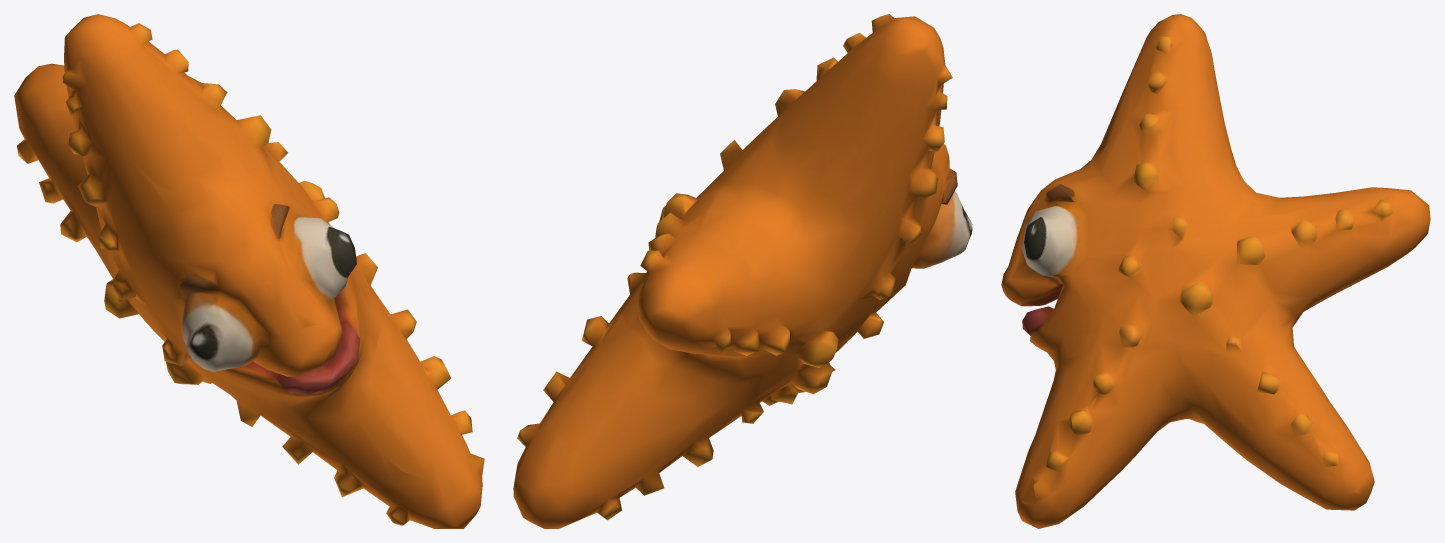
File: fish-starfish.glb
3 views of the same model, side by side, from view 1: azimuth 30°, elevation 25°; view 2: azimuth 150°, elevation 25°; view 3: azimuth 270°, elevation 25° (orthographic). The views are drawn at different scales.
Parts seen in each view (by area): view 1: tripo_node_2cf13909-51e1-4ab7-abfc-37a132337839; view 2: tripo_node_2cf13909-51e1-4ab7-abfc-37a132337839; view 3: tripo_node_2cf13909-51e1-4ab7-abfc-37a132337839.
Boxes of the visible parts, left/top/right/bottom form: tripo_node_2cf13909-51e1-4ab7-abfc-37a132337839: left=14, top=14, right=484, bottom=528; tripo_node_2cf13909-51e1-4ab7-abfc-37a132337839: left=513, top=14, right=972, bottom=528; tripo_node_2cf13909-51e1-4ab7-abfc-37a132337839: left=1001, top=14, right=1430, bottom=528.
Bounding box in the file's own units: 0.6906 × 1 × 0.9528.
1 material, 1 textured.
